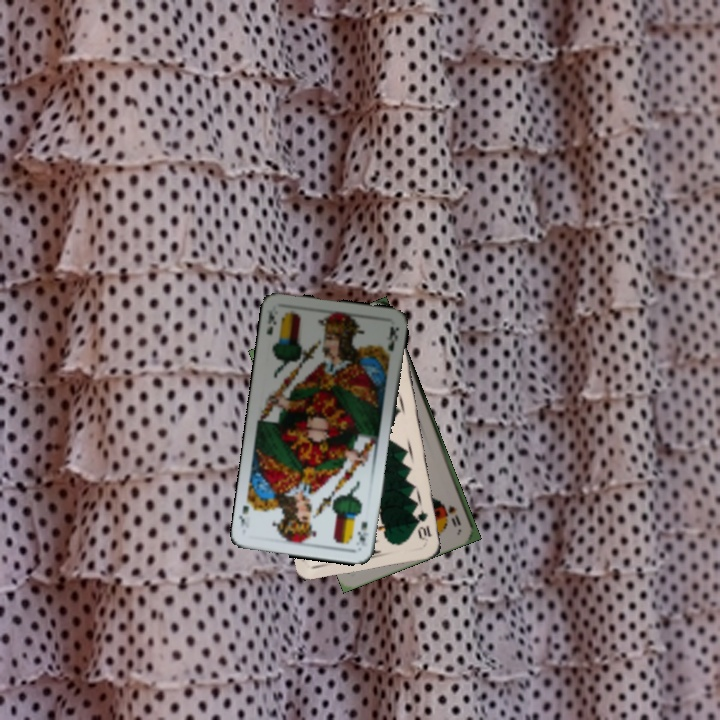EK: (263, 306, 278, 337), (356, 518, 371, 546)
G10: (412, 505, 434, 543)
SO: (444, 500, 464, 528)
